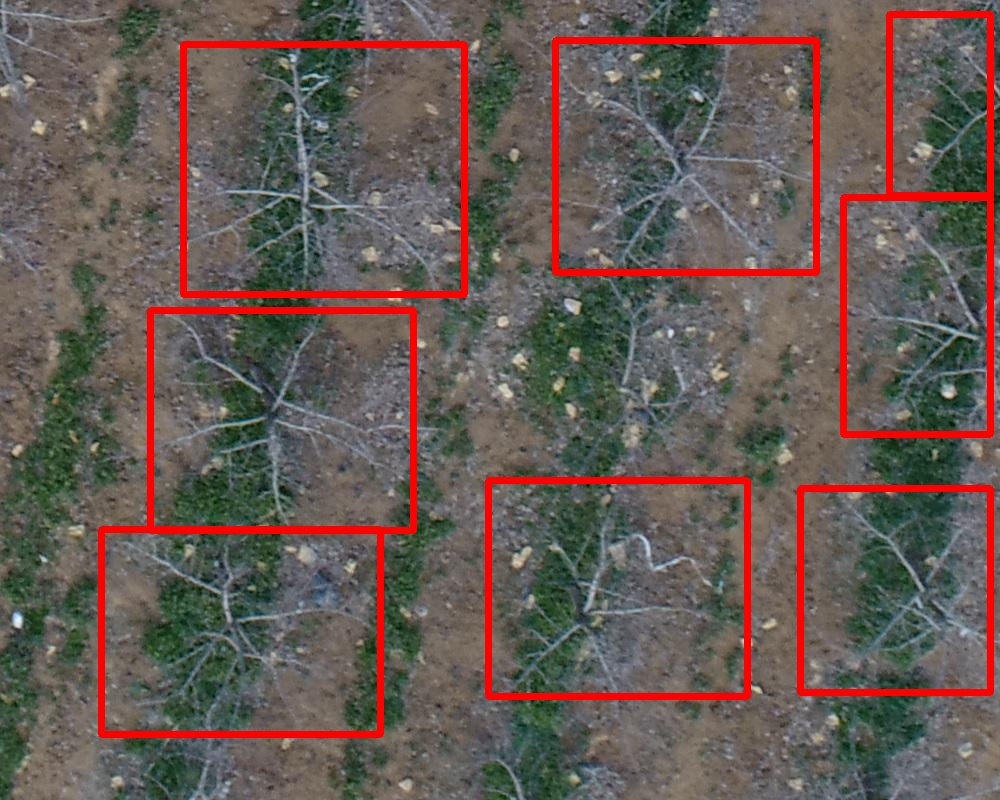apple: (183, 44, 464, 294), (555, 40, 816, 272), (150, 310, 413, 530), (101, 529, 380, 734), (488, 480, 747, 696), (800, 488, 990, 692), (843, 197, 990, 434), (889, 14, 990, 195)
